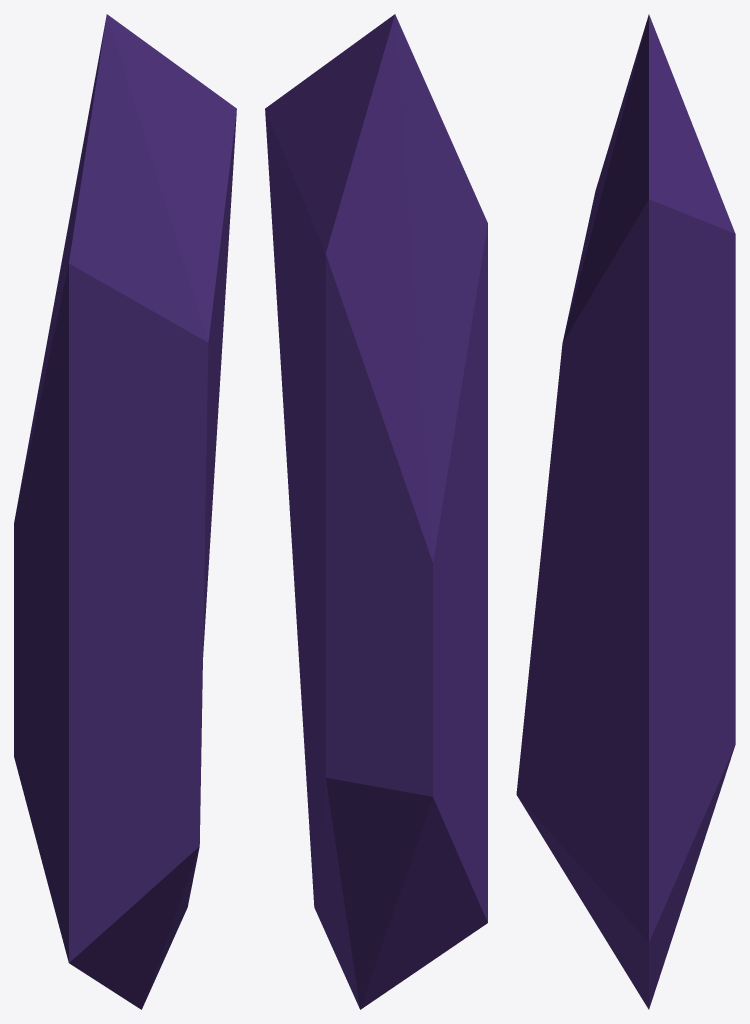
The model's file is Crystal_Pointu_3.FBX.
3 renders of one model, left to right at view 1: azimuth 30°, elevation 25°; view 2: azimuth 150°, elevation 25°; view 3: azimuth 270°, elevation 25°, orthographic. The views are drawn at different scales.
Parts seen in each view (by area): view 1: Spindle002; view 2: Spindle002; view 3: Spindle002.
Boxes of the visible parts, left/top/right/bottom form: Spindle002: left=14, top=14, right=236, bottom=1009; Spindle002: left=265, top=14, right=487, bottom=1009; Spindle002: left=516, top=14, right=735, bottom=1009.
Size of the model in its own units: 48.76 by 239 by 48.53.
